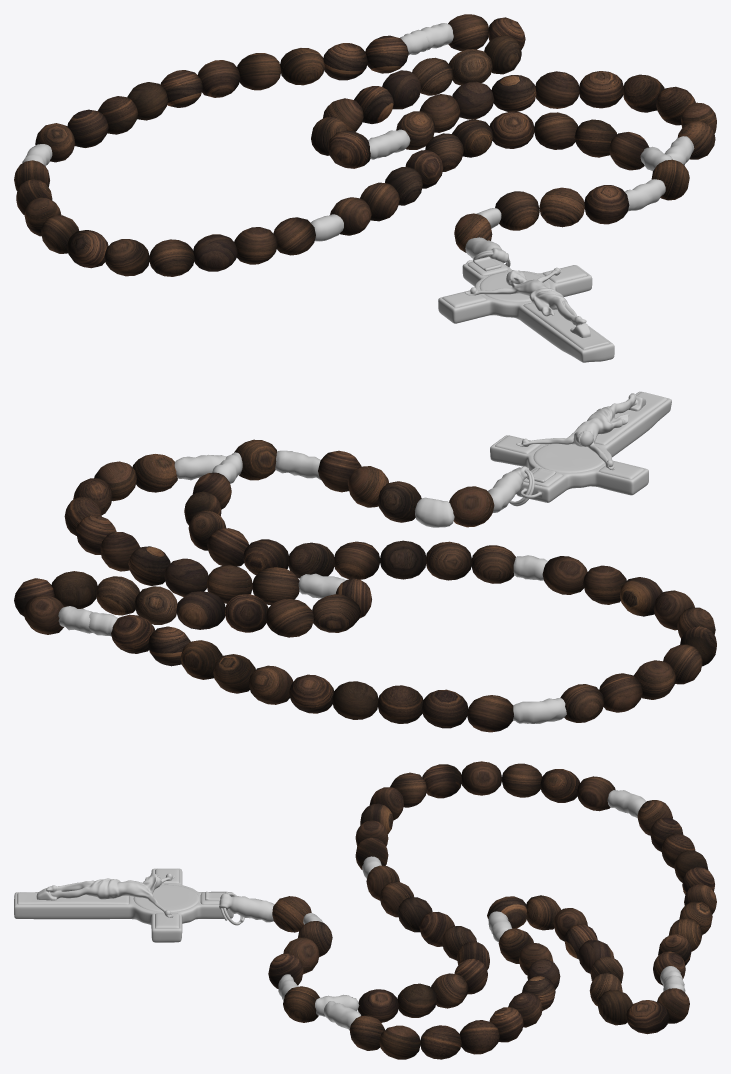
3 renders of one model, top to bottom at view 1: azimuth 30°, elevation 25°; view 2: azimuth 150°, elevation 25°; view 3: azimuth 270°, elevation 25°, orthographic. The views are drawn at different scales.
Visible parts, largest first — view 1: VP_Free_Rosary; view 2: VP_Free_Rosary; view 3: VP_Free_Rosary.
Boxes of the visible parts, x1=… form: VP_Free_Rosary: x1=14, y1=14, x2=716, y2=362; VP_Free_Rosary: x1=14, y1=391, x2=716, y2=732; VP_Free_Rosary: x1=14, y1=761, x2=716, y2=1059.
Bounding box in the file's own units: 0.0952 × 0.0068 × 0.1015.
